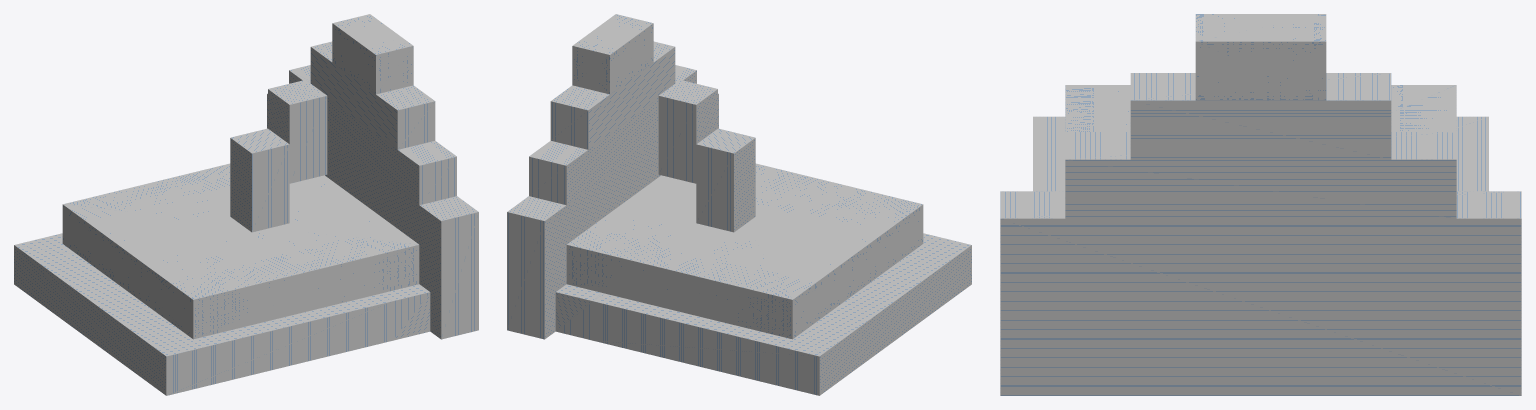
File: tomb-03.fbx
3 renders of one model, left to right at view 1: azimuth 30°, elevation 25°; view 2: azimuth 150°, elevation 25°; view 3: azimuth 270°, elevation 25°, orthographic. The views are drawn at different scales.
Parts seen in each view (by area): view 1: generated; view 2: generated; view 3: generated.
Boxes of the visible parts, x1,y1,x2,y2 form: generated: (14,14,478,395); generated: (507,14,971,395); generated: (1000,14,1521,395).
Bounding box in the file's own units: 80 × 60 × 80.
Materials: 1 (1 with a texture image).
